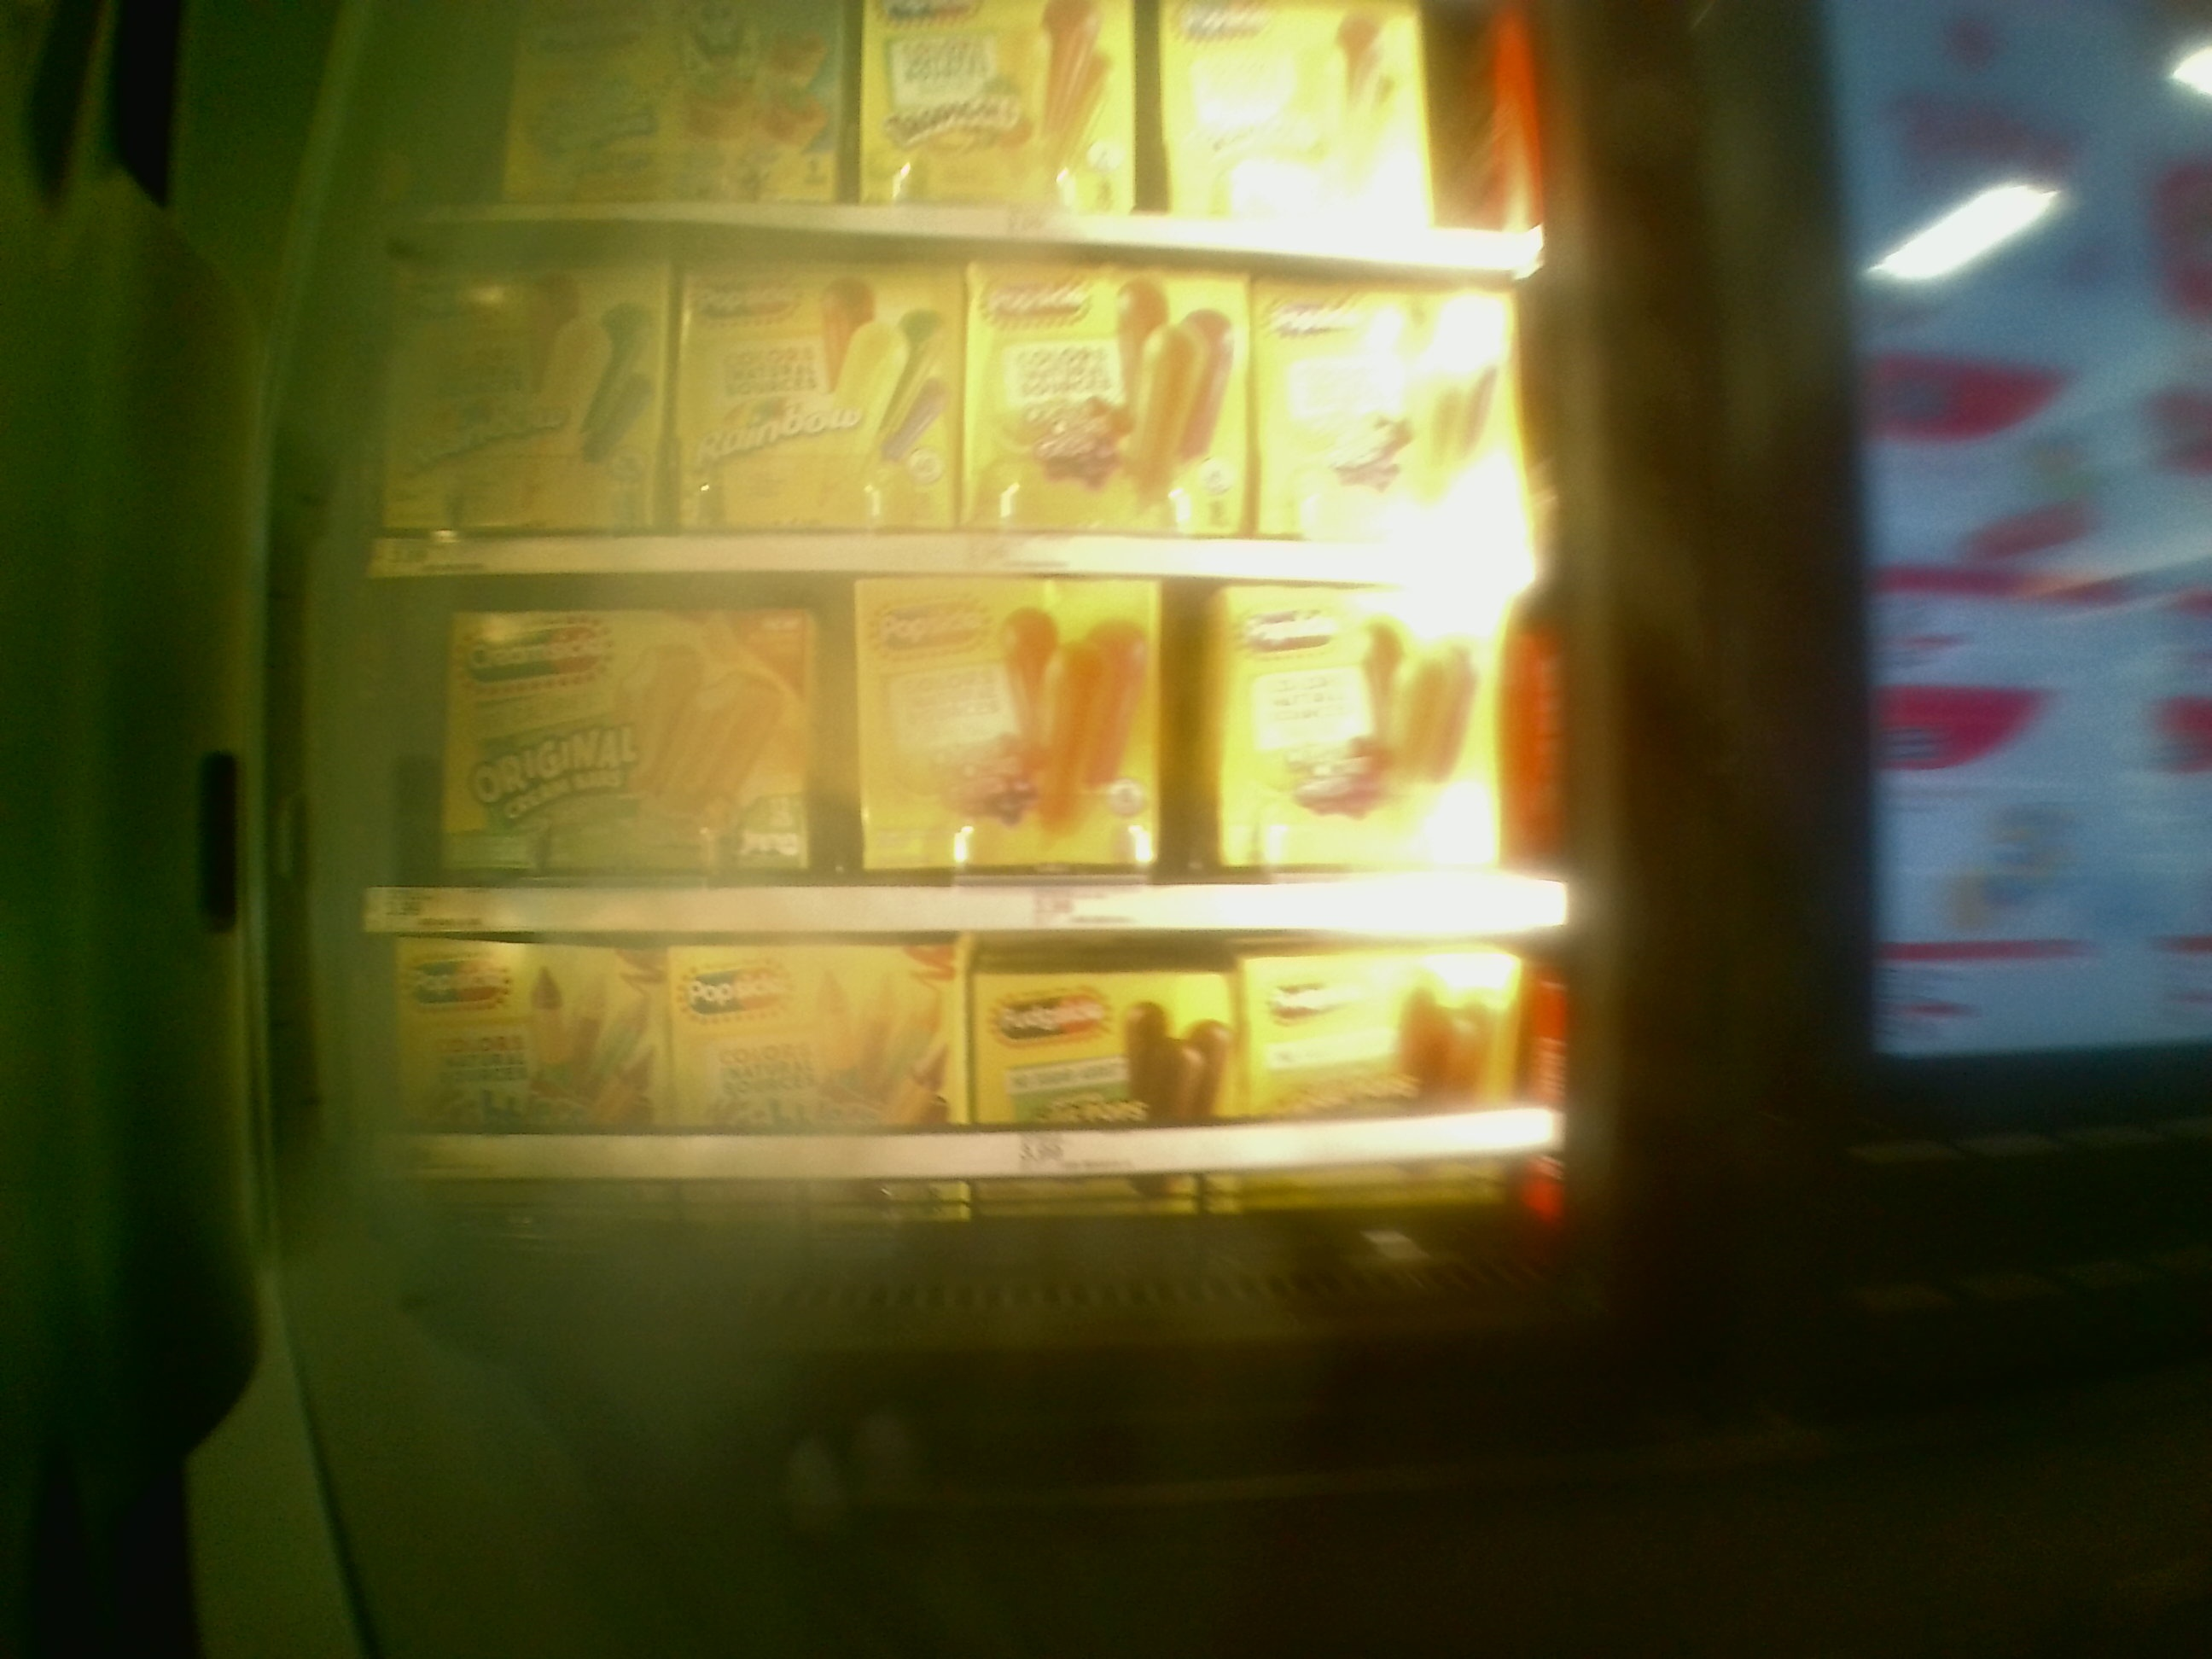frozen-food-shelf: (347, 929, 1554, 1183)
